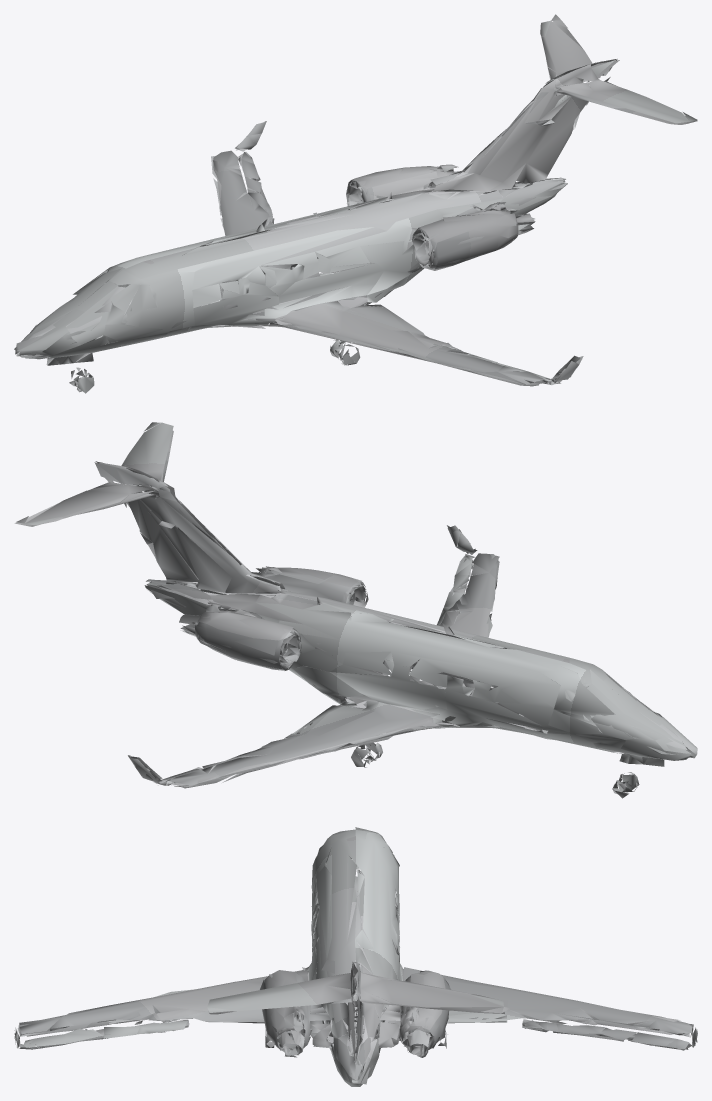
Rendered from jet.glb.
3 views of the same model, one above another, from view 1: azimuth 30°, elevation 25°; view 2: azimuth 150°, elevation 25°; view 3: azimuth 270°, elevation 25° (orthographic). The views are drawn at different scales.
Parts seen in each view (by area): view 1: LO.001; view 2: LO.001; view 3: LO.001.
Boxes of the visible parts, x1=… form: LO.001: x1=14, y1=14, x2=697, y2=393; LO.001: x1=14, y1=422, x2=697, y2=798; LO.001: x1=14, y1=827, x2=697, y2=1086.
Bounding box in the file's own units: 1.89 × 0.6041 × 1.7.
1 material, 1 textured.
